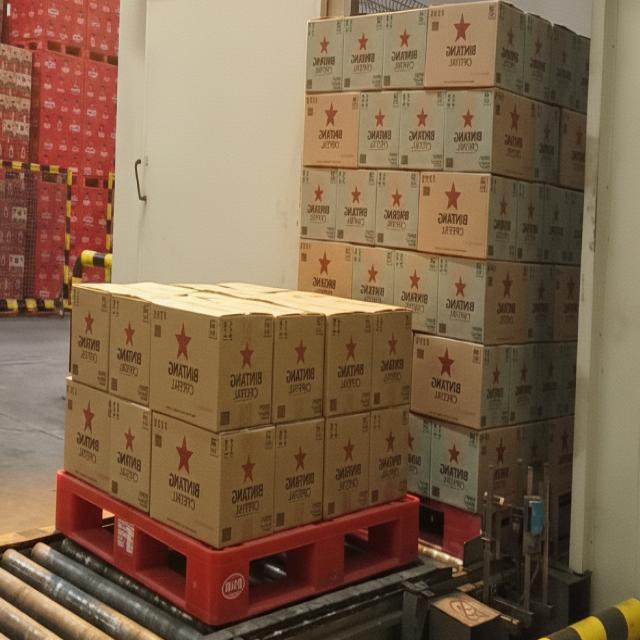pallet: (299, 0, 624, 568), (55, 244, 426, 636)
